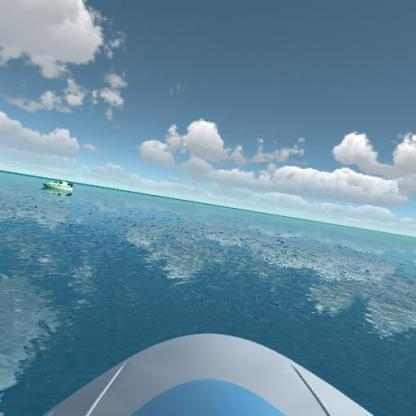usv0: (38, 174, 74, 198)
